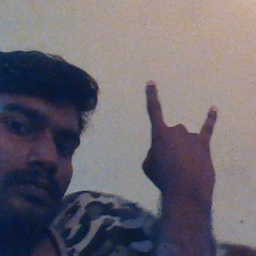V: (133, 74, 229, 204)
